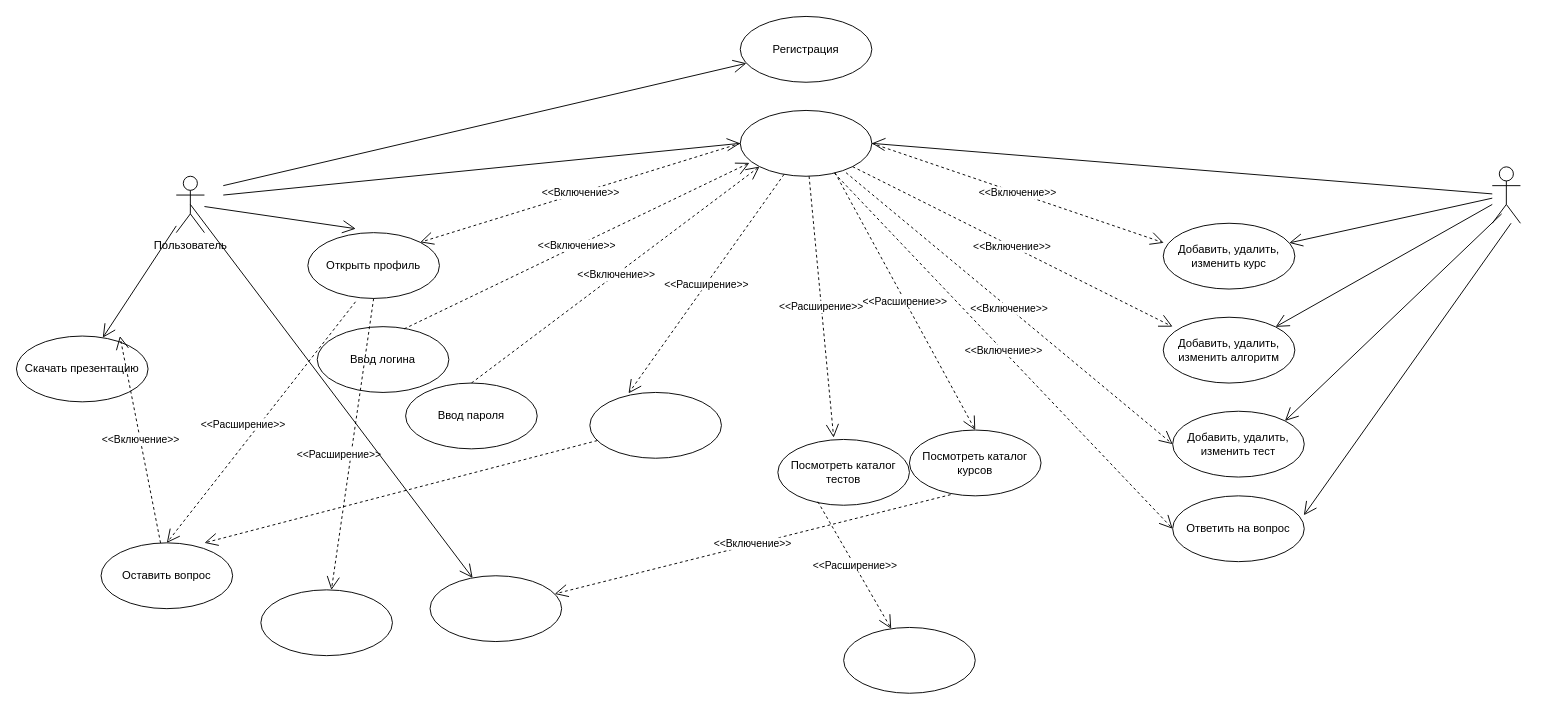
Some shapes in this 1563 by 710 pixel diagram are drawn without their labels. The shapes that lost their labels are listed below. From the top down, each one's centre as x and y in pixels, then its label:
(x=805, y=143): Авторизация
(x=1505, y=194): Администратор
(x=655, y=425): Посмотреть каталог алгоритмов
(x=326, y=622): Изменить фотографию
(x=495, y=608): Купить курс
(x=909, y=660): Открыть тест
